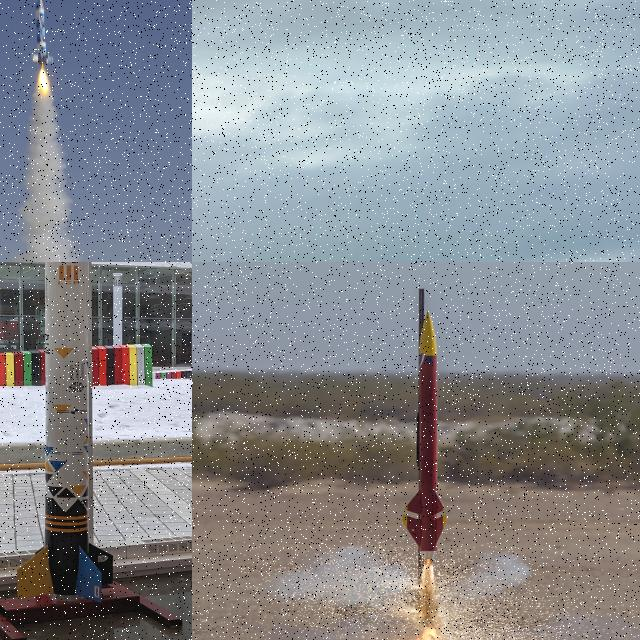Rocket: (16, 262, 114, 603), (403, 311, 451, 565), (30, 0, 54, 65)
